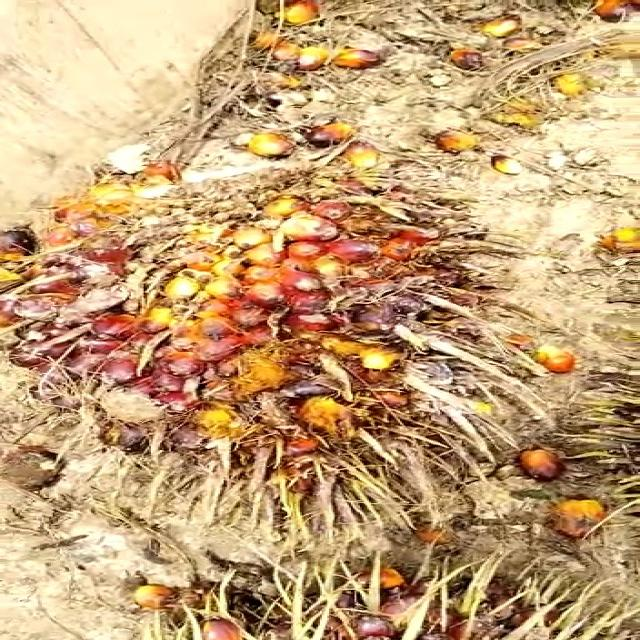palm oil: (2, 154, 524, 493)
